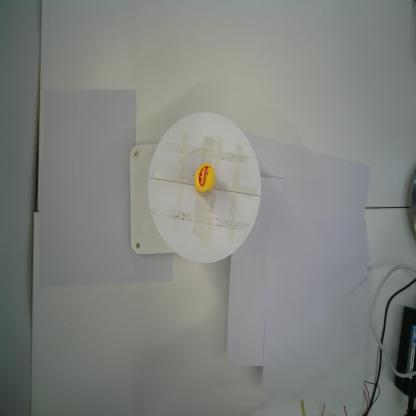Candy: (192, 162, 216, 198)
